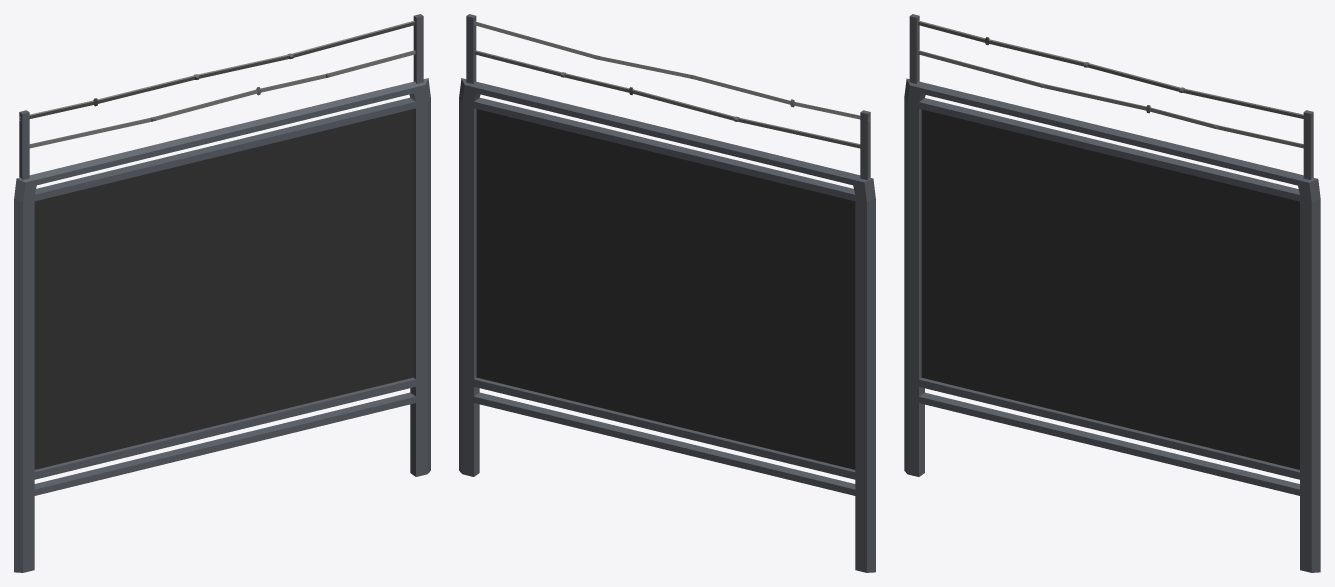
Rendered from SM_Prop_Fence_01.fbx.
3 views of the same model, side by side, from view 1: azimuth 30°, elevation 25°; view 2: azimuth 150°, elevation 25°; view 3: azimuth 330°, elevation 25° (orthographic).
Parts seen in each view (by area): view 1: SM_Prop_Fence_01; view 2: SM_Prop_Fence_01; view 3: SM_Prop_Fence_01.
Boxes of the visible parts, box(x1,y1,x2,y2) form: SM_Prop_Fence_01: box(14, 14, 430, 572); SM_Prop_Fence_01: box(459, 14, 875, 572); SM_Prop_Fence_01: box(904, 14, 1320, 572).
Bounding box in the file's own units: 303 × 319 × 7.24.
